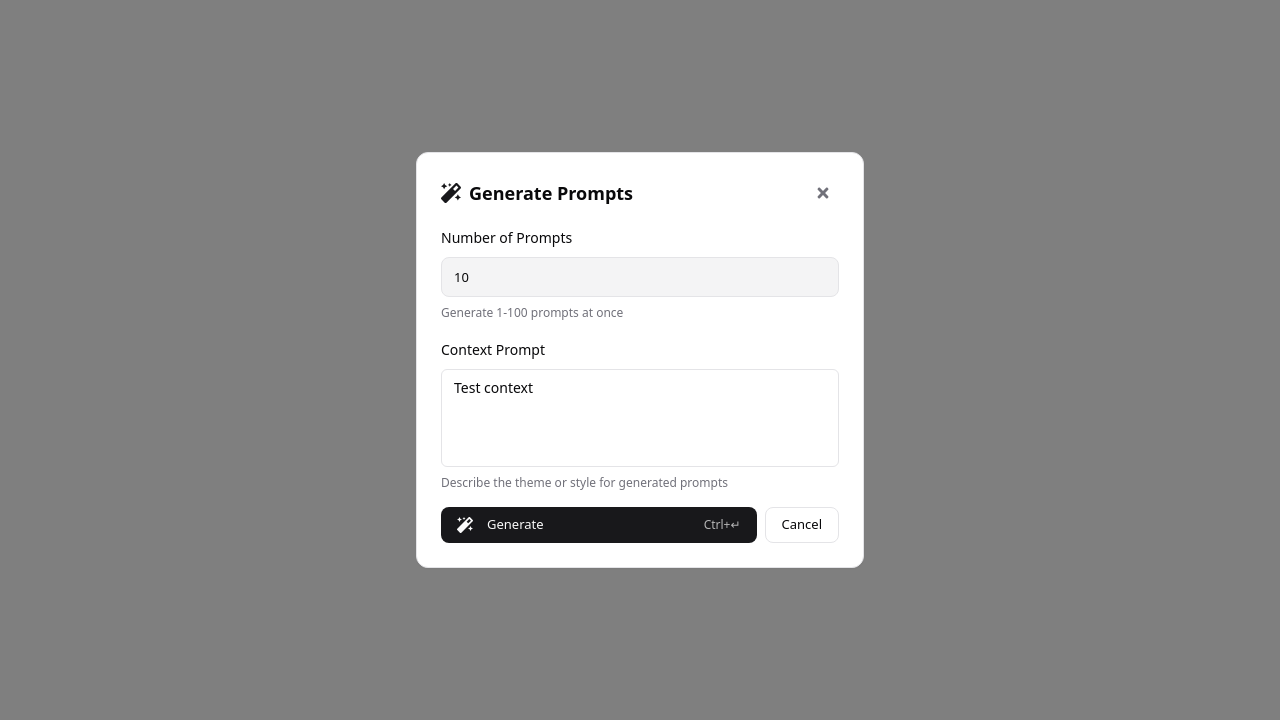
Test case: GenerateDialog › should handle generation errors
The image size is (1280, 720).
Click the button "Generate Ctrl+↵" at (515, 524), box [441, 507, 756, 543]
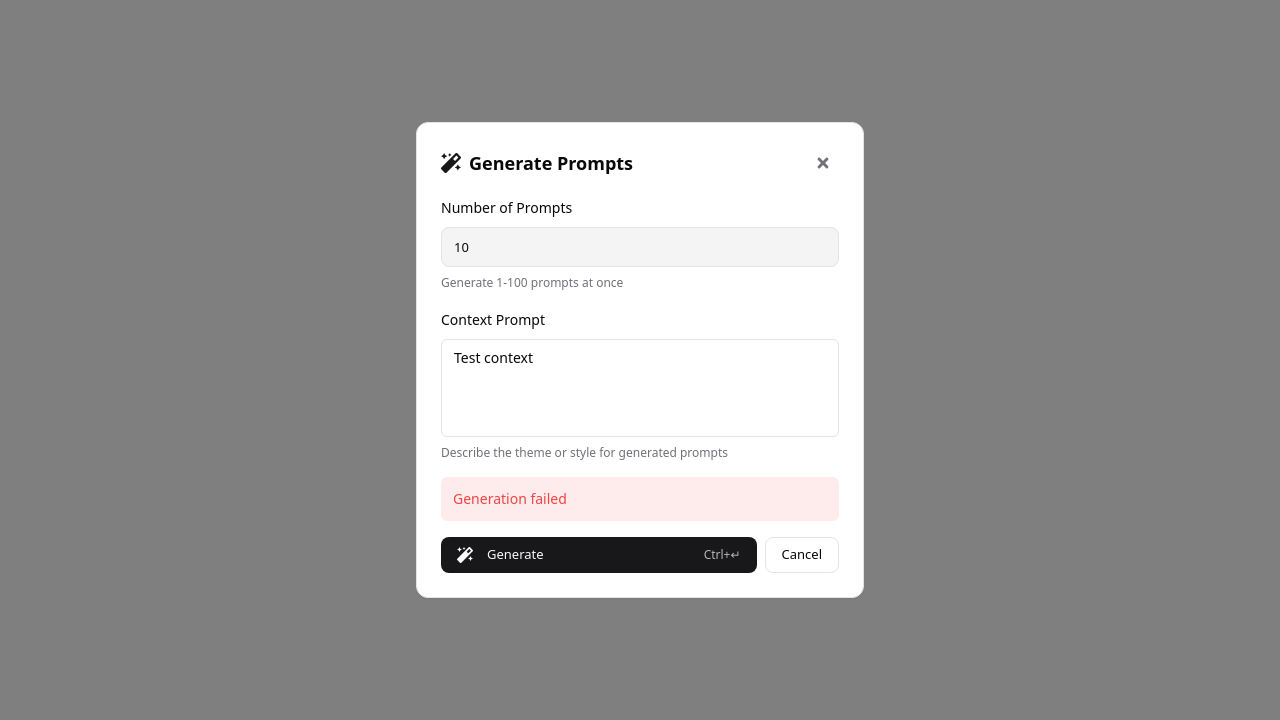
Result: the text "Generation failed" is shown at [441, 477, 839, 521]
